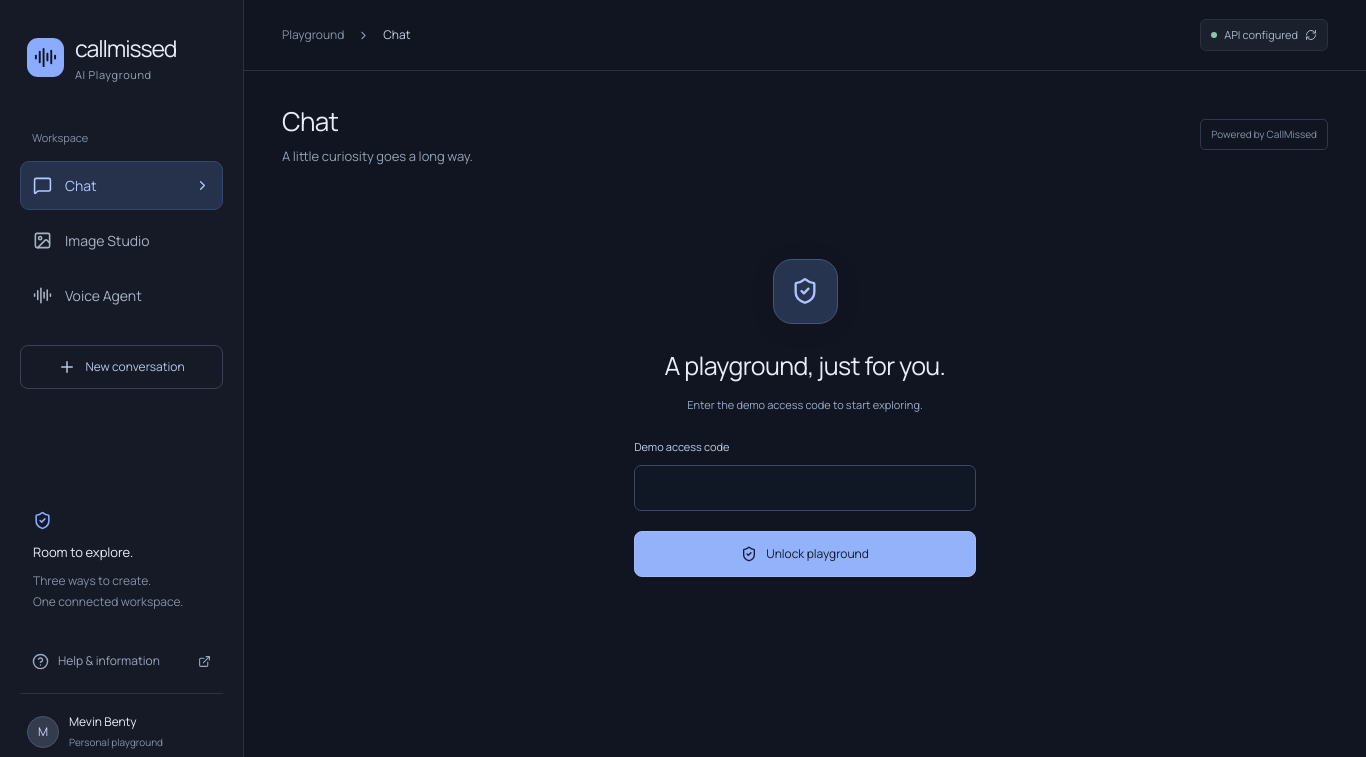
playground workflows › requires the access code before exposing protected workflows
Expected: the text "Where shall we begin?" is not shown
Type "test-reviewer-code" into the password field labelled "Demo access code" at (805,488), box [634,465,976,511]
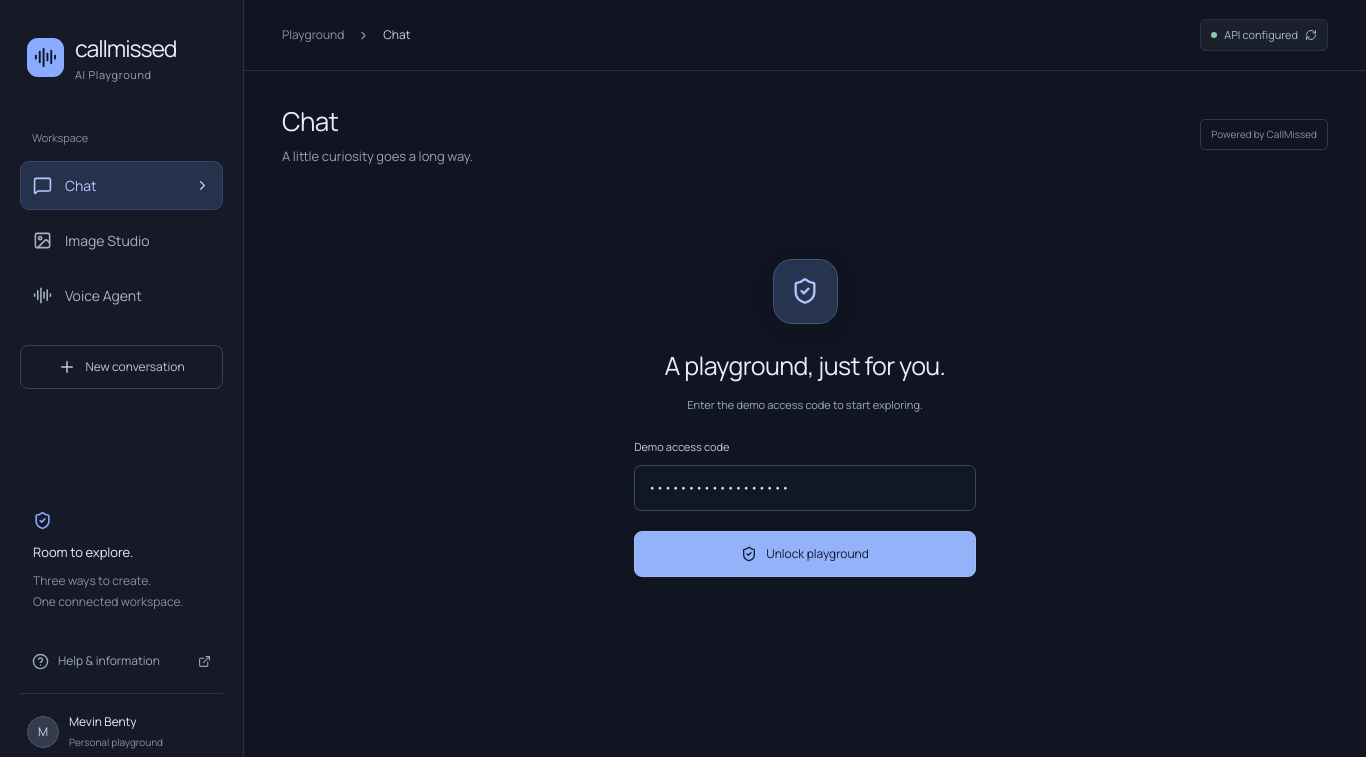
Click the button "Unlock playground" at (805,554), box [634,531,976,577]
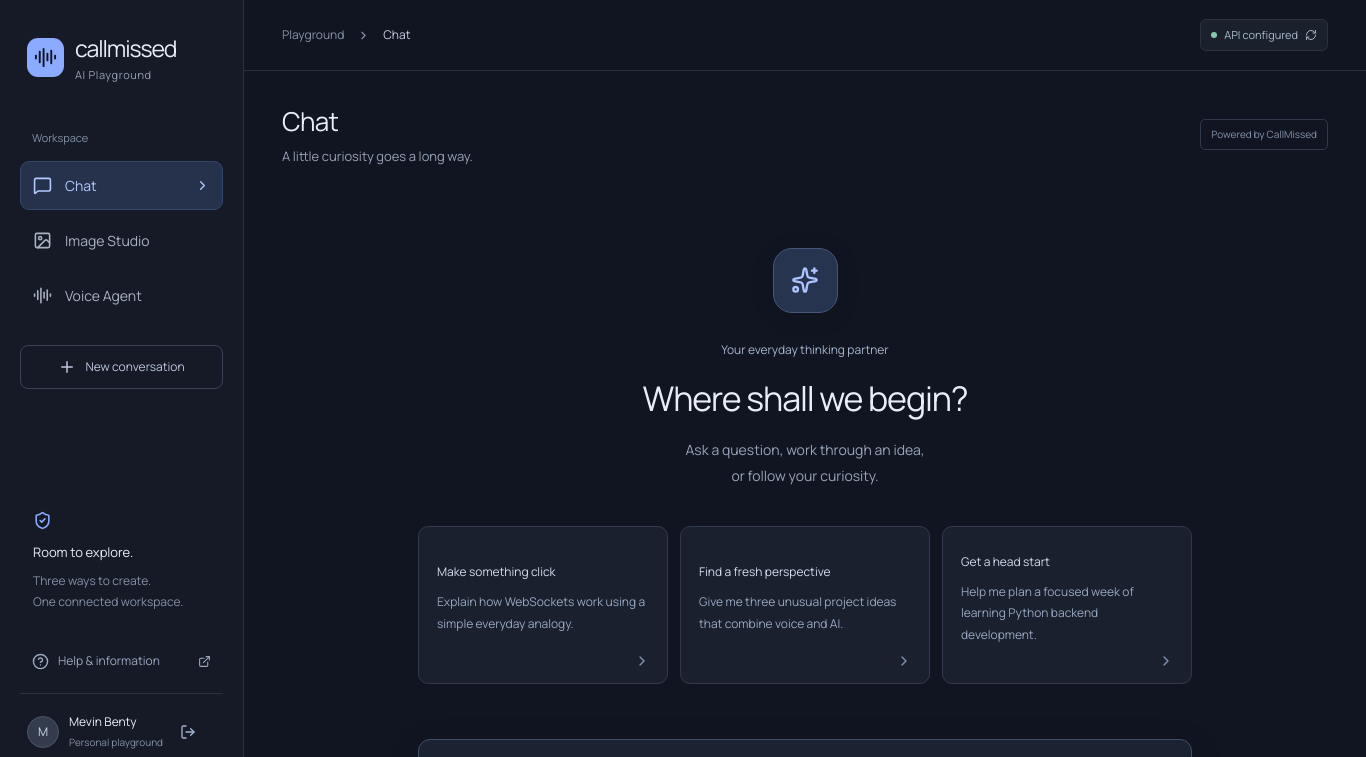
Now the heading "Where shall we begin?" is shown, box [642,374,968,420]
